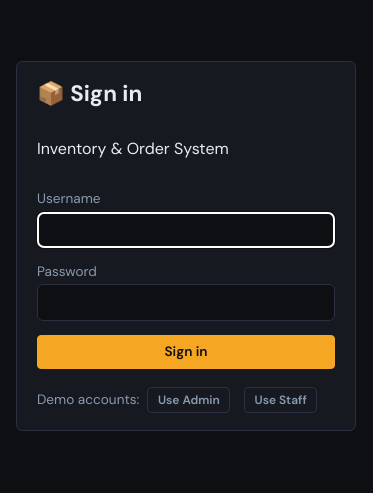
it: LoginPage › shows an error message when login fails
The image size is (373, 493).
Type "admin" into the field labelled "Username" at x=186, y=230, box [37, 212, 335, 248]
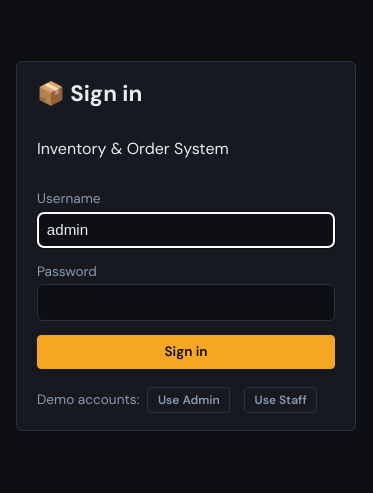
Type "wrong-password" into the password field labelled "Password" at x=186, y=303, box [37, 284, 335, 321]
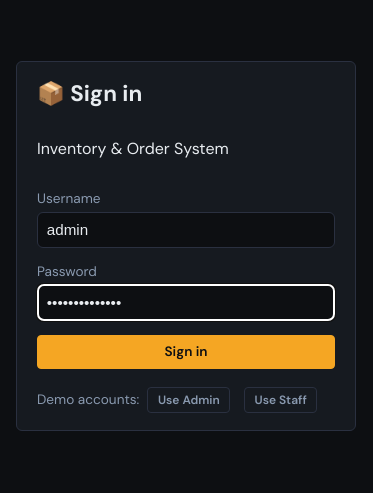
Click the button "Sign in" at x=186, y=352, box [37, 335, 335, 368]
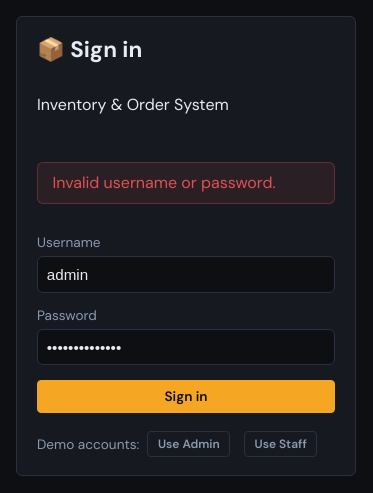
Check: the text "Invalid username or password." is shown, box [37, 162, 335, 204]
